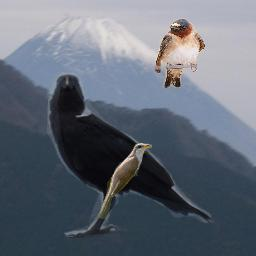Crow: (46, 72, 213, 238)
Cuckoo: (97, 143, 152, 219)
Swallow: (155, 18, 205, 88)
